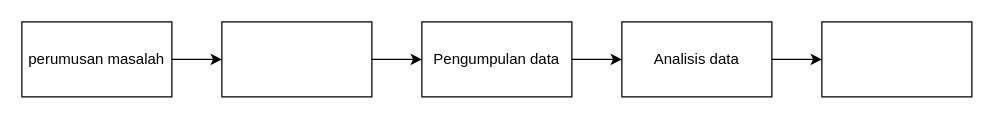
Image size: 994x119. Some labels were removed from this diagram. The centre of each missing label's shape, as x and y in pixels:
"Kesimpulan" belongs at (x=896, y=59).
"penyusunan kuesioner" belongs at (x=296, y=59).
